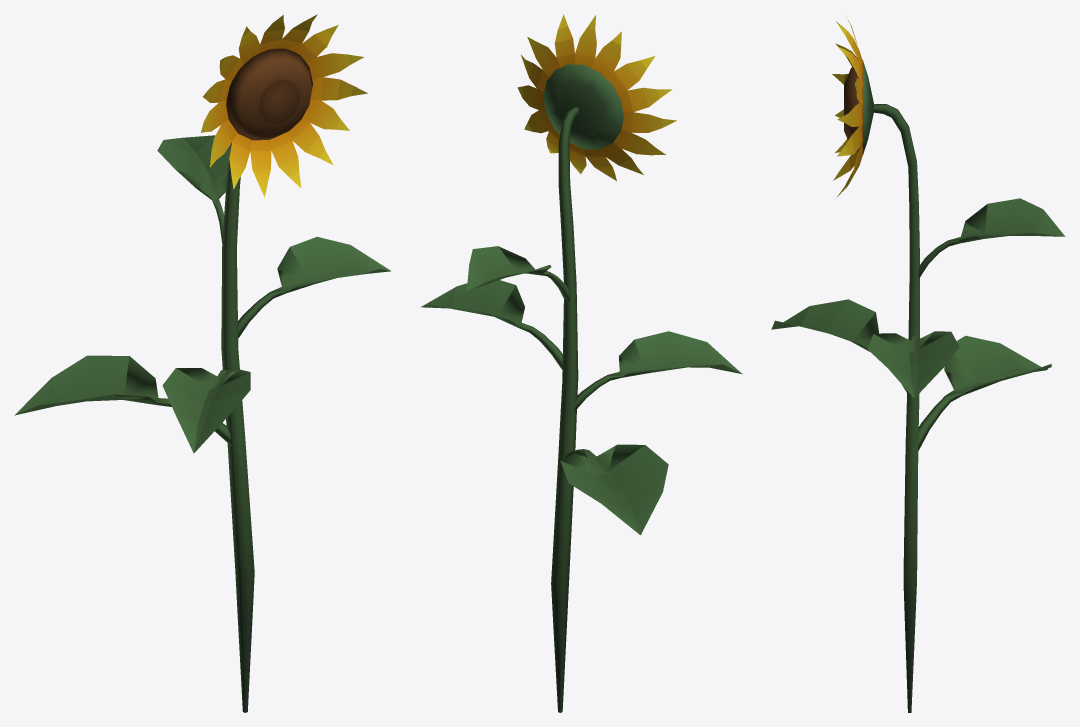
The model's file is plants-flowers-sunflower_v3.glb.
3 views of the same model, side by side, from view 1: azimuth 30°, elevation 25°; view 2: azimuth 150°, elevation 25°; view 3: azimuth 270°, elevation 25° (orthographic). The views are drawn at different scales.
Visible parts, largest first — view 1: Sunflower_v3; view 2: Sunflower_v3; view 3: Sunflower_v3.
Part boxes in pixels (x1,y1,x2,y2): Sunflower_v3: (14, 14, 391, 712); Sunflower_v3: (421, 14, 742, 712); Sunflower_v3: (771, 20, 1065, 712).
Bounding box in the file's own units: 0.8884 × 2 × 0.7736.
